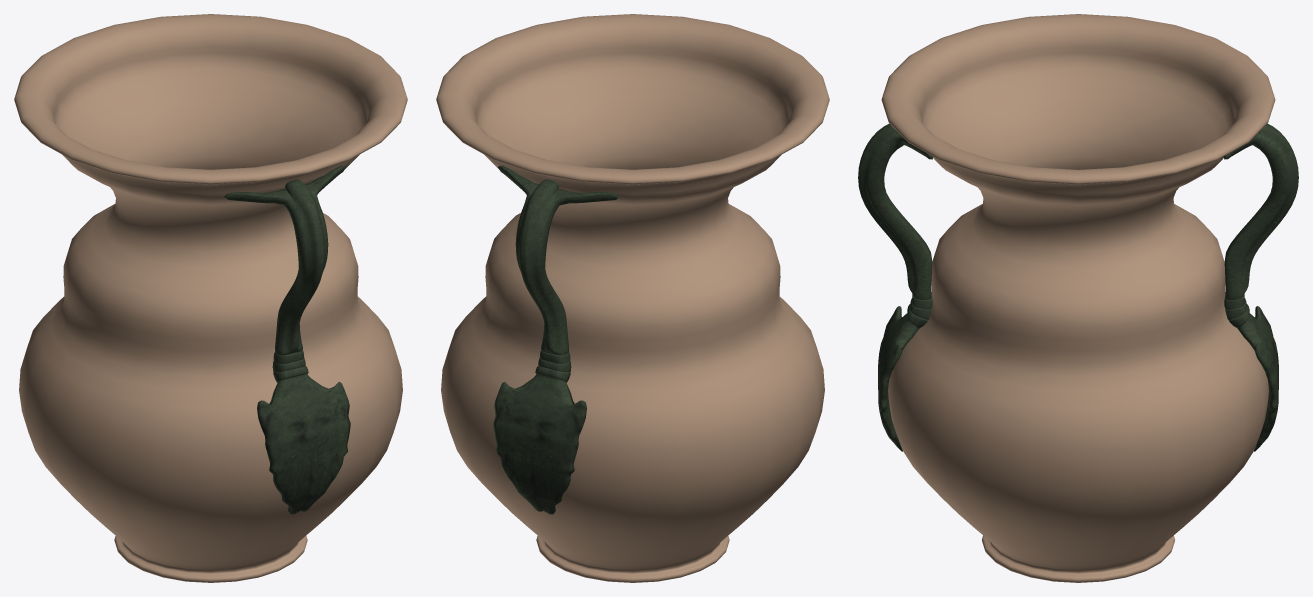
The picture shows the model from 3 angles, left to right: view 1: azimuth 30°, elevation 25°; view 2: azimuth 150°, elevation 25°; view 3: azimuth 270°, elevation 25°; orthographic projection.
Parts seen in each view (by area): view 1: nurbsToPoly1, pCube1; view 2: nurbsToPoly1, pCube2; view 3: nurbsToPoly1, pCube1, pCube2.
Boxes of the visible parts, left/top/right/bottom form: nurbsToPoly1: left=14, top=14, right=407, bottom=582; pCube1: left=224, top=165, right=350, bottom=514; nurbsToPoly1: left=436, top=14, right=829, bottom=582; pCube2: left=493, top=165, right=619, bottom=514; nurbsToPoly1: left=881, top=14, right=1275, bottom=582; pCube1: left=858, top=123, right=933, bottom=451; pCube2: left=1223, top=123, right=1298, bottom=451.
Bounding box in the file's own units: 0.4018 × 0.5071 × 0.4495.
Materials: 2 (1 with a texture image).
